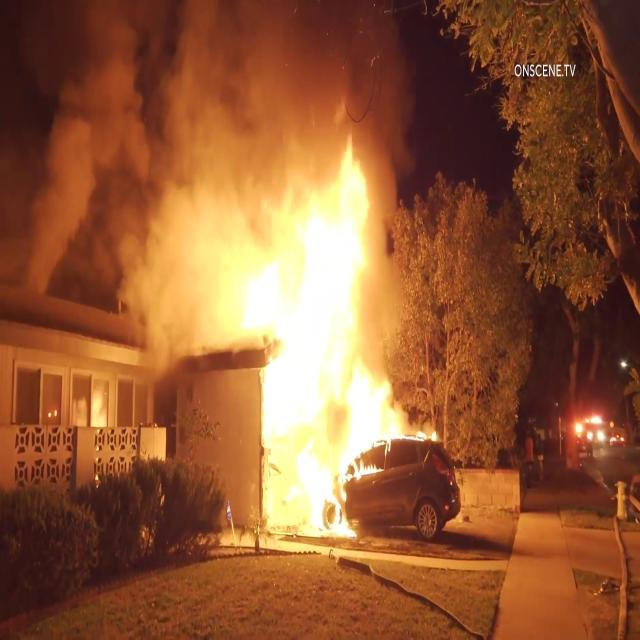fire: (265, 104, 386, 529), (228, 188, 298, 329)
smoke: (4, 3, 220, 318), (0, 0, 262, 183), (222, 4, 417, 90)
